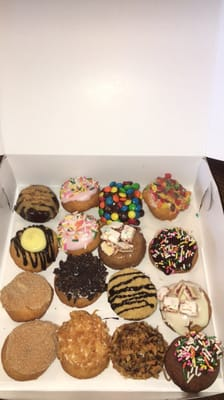salad: (57, 310, 111, 379), (163, 331, 223, 393), (1, 320, 59, 381), (109, 322, 167, 380), (156, 280, 212, 336), (53, 251, 107, 308), (106, 268, 158, 321), (0, 271, 54, 322), (148, 227, 199, 275), (9, 225, 59, 273), (98, 221, 146, 270), (141, 174, 192, 220), (55, 211, 101, 256), (98, 180, 144, 225), (14, 185, 60, 224), (59, 176, 101, 213)
